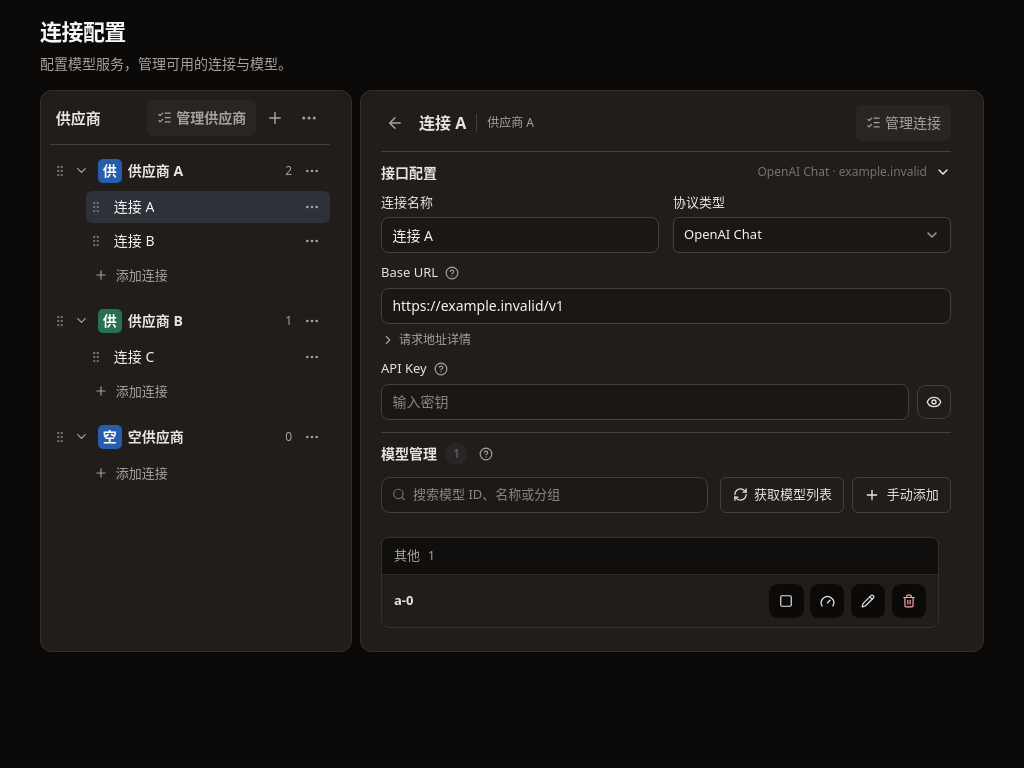
Scenario: ConnectionSettings batch management › restores the adjacent management entry after completing connections management
This screenshot has width=1024, height=768.
Step 1. Click the button "管理连接" → (904, 123), box [856,105,951,141]
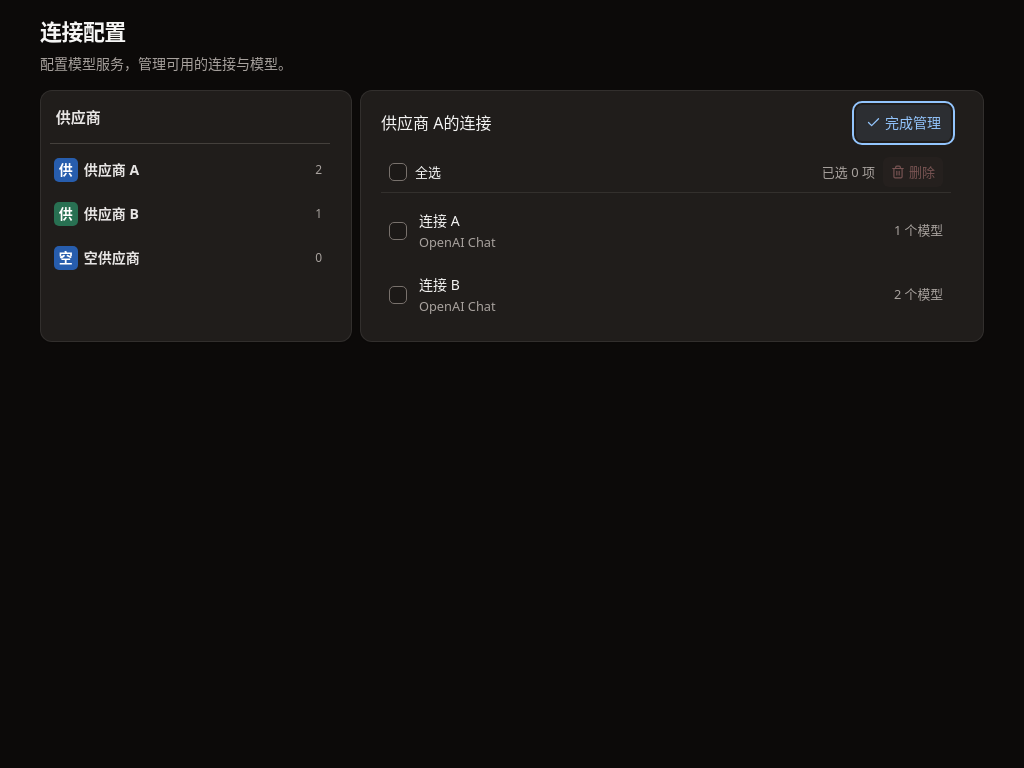
Result: the button "完成管理" is shown
Step 2. Click the button "完成管理" → (904, 123), box [856,105,951,141]
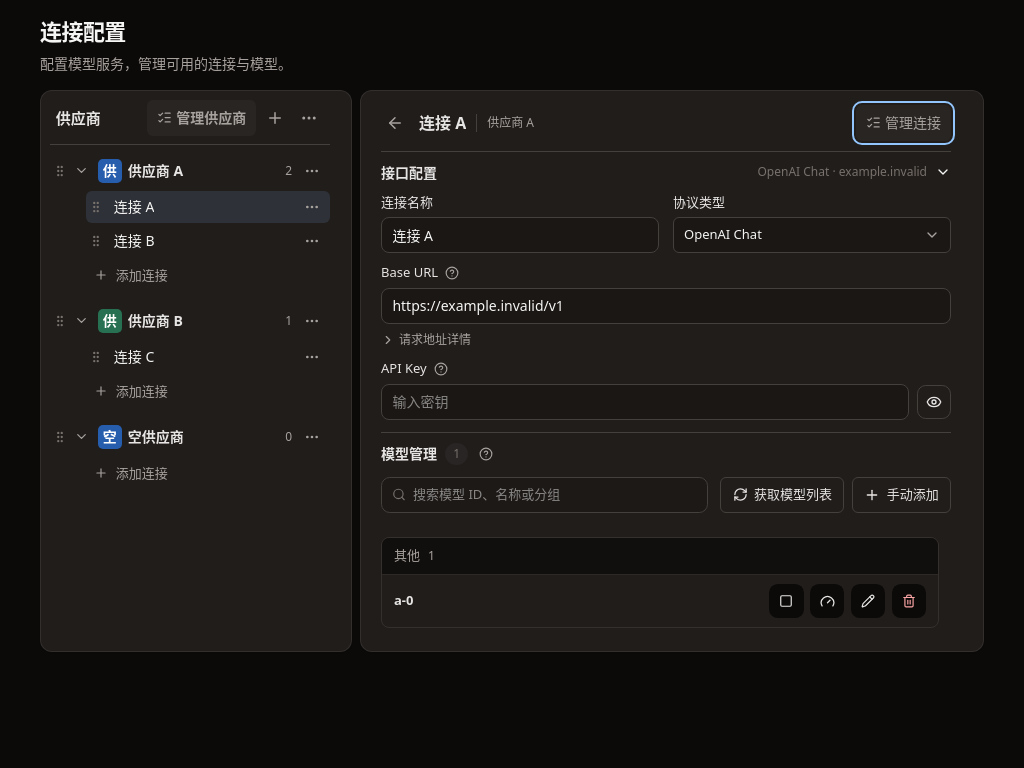
Result: the button "管理连接" is shown at [856,105,951,141]
